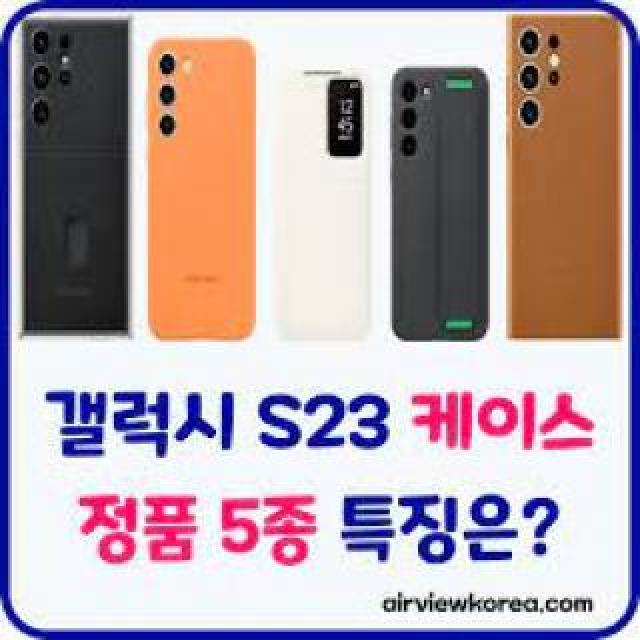smart phone: (0, 12, 142, 342), (502, 17, 628, 350), (262, 50, 386, 340), (142, 30, 255, 337), (395, 52, 495, 345)
